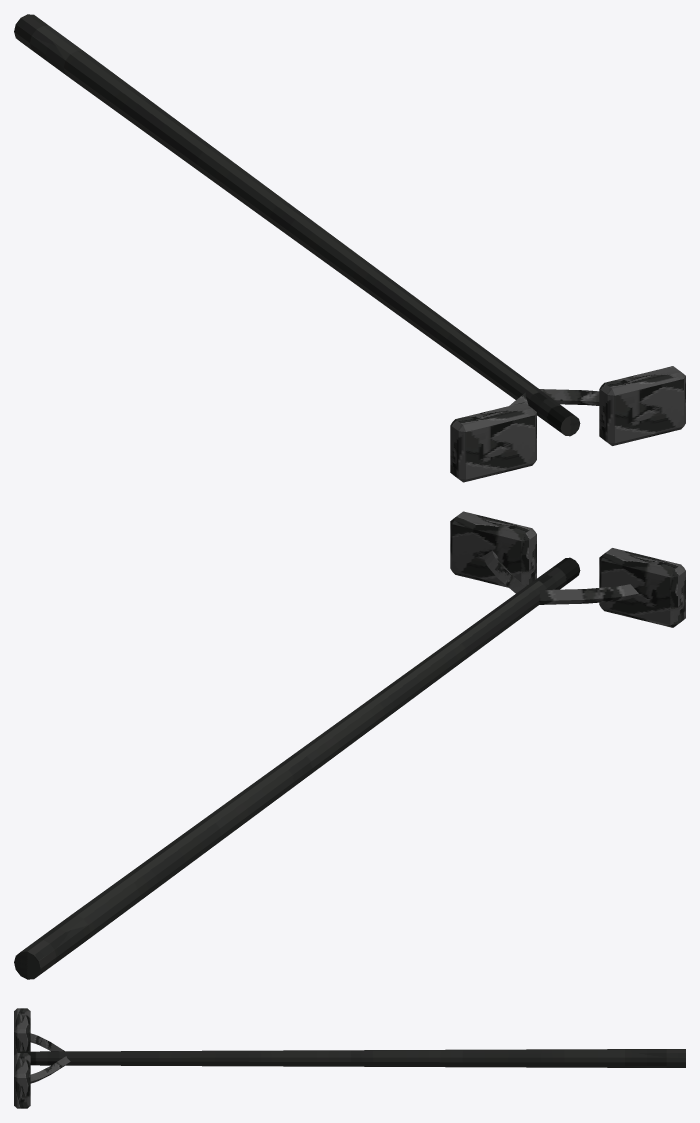
Rendered from pz_street_pole_19.obj.
The picture shows the model from 3 angles, top to bottom: view 1: azimuth 30°, elevation 25°; view 2: azimuth 150°, elevation 25°; view 3: azimuth 270°, elevation 25°; orthographic projection. The views are drawn at different scales.
Visible parts, largest first — view 1: pz_street_pole_19_|_tapered_native_street_pole, pz_street_pole_19_|_parking_flood_head.001, pz_street_pole_19_|_parking_flood_head, pz_street_pole_19_|_EDITABLE_branched_parking_lamp_arm.001; view 2: pz_street_pole_19_|_tapered_native_street_pole, pz_street_pole_19_|_parking_flood_head, pz_street_pole_19_|_parking_flood_head.001, pz_street_pole_19_|_EDITABLE_branched_parking_lamp_arm; view 3: pz_street_pole_19_|_tapered_native_street_pole, pz_street_pole_19_|_parking_flood_head.001, pz_street_pole_19_|_parking_flood_head, pz_street_pole_19_|_EDITABLE_branched_parking_lamp_arm.001, pz_street_pole_19_|_EDITABLE_branched_parking_lamp_arm.
Part boxes in pixels (x1,y1,x2,y2): pz_street_pole_19_|_tapered_native_street_pole: [14, 14, 580, 436]; pz_street_pole_19_|_parking_flood_head.001: [599, 366, 685, 445]; pz_street_pole_19_|_parking_flood_head: [450, 402, 536, 482]; pz_street_pole_19_|_EDITABLE_branched_parking_lamp_arm.001: [539, 389, 599, 405]; pz_street_pole_19_|_tapered_native_street_pole: [14, 557, 580, 979]; pz_street_pole_19_|_parking_flood_head: [599, 548, 685, 627]; pz_street_pole_19_|_parking_flood_head.001: [450, 511, 536, 587]; pz_street_pole_19_|_EDITABLE_branched_parking_lamp_arm: [539, 584, 638, 604]; pz_street_pole_19_|_tapered_native_street_pole: [19, 1049, 685, 1067]; pz_street_pole_19_|_parking_flood_head.001: [14, 1053, 30, 1108]; pz_street_pole_19_|_parking_flood_head: [14, 1008, 30, 1055]; pz_street_pole_19_|_EDITABLE_branched_parking_lamp_arm.001: [30, 1056, 70, 1083]; pz_street_pole_19_|_EDITABLE_branched_parking_lamp_arm: [30, 1033, 64, 1051].
Bounding box in the file's own units: 0.58 × 0.14 × 2.42.
Materials: 1 (1 with a texture image).
